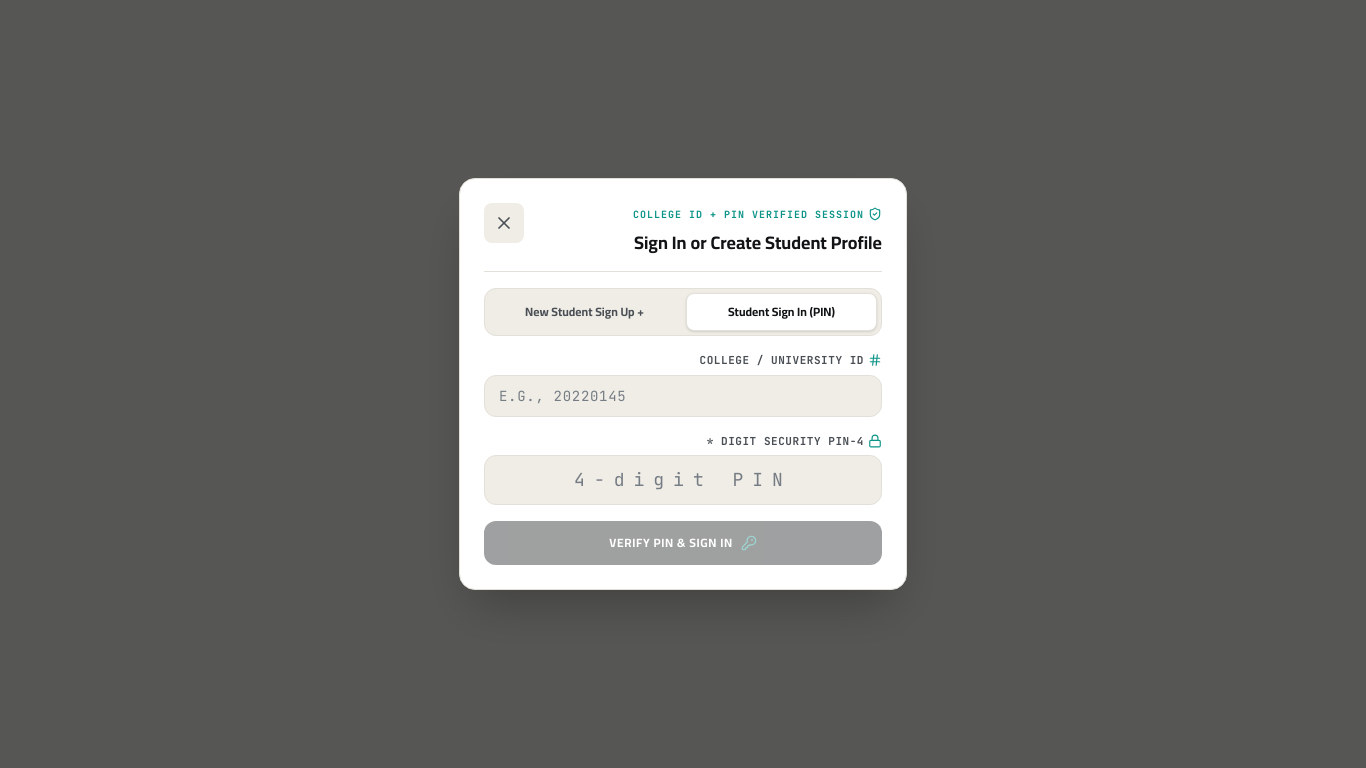
it: allows College ID sign-in with an empty public directory and recovers from network errors
Type "20220145" into the field labelled "College / University ID" at (683, 396), box [484,374,882,416]
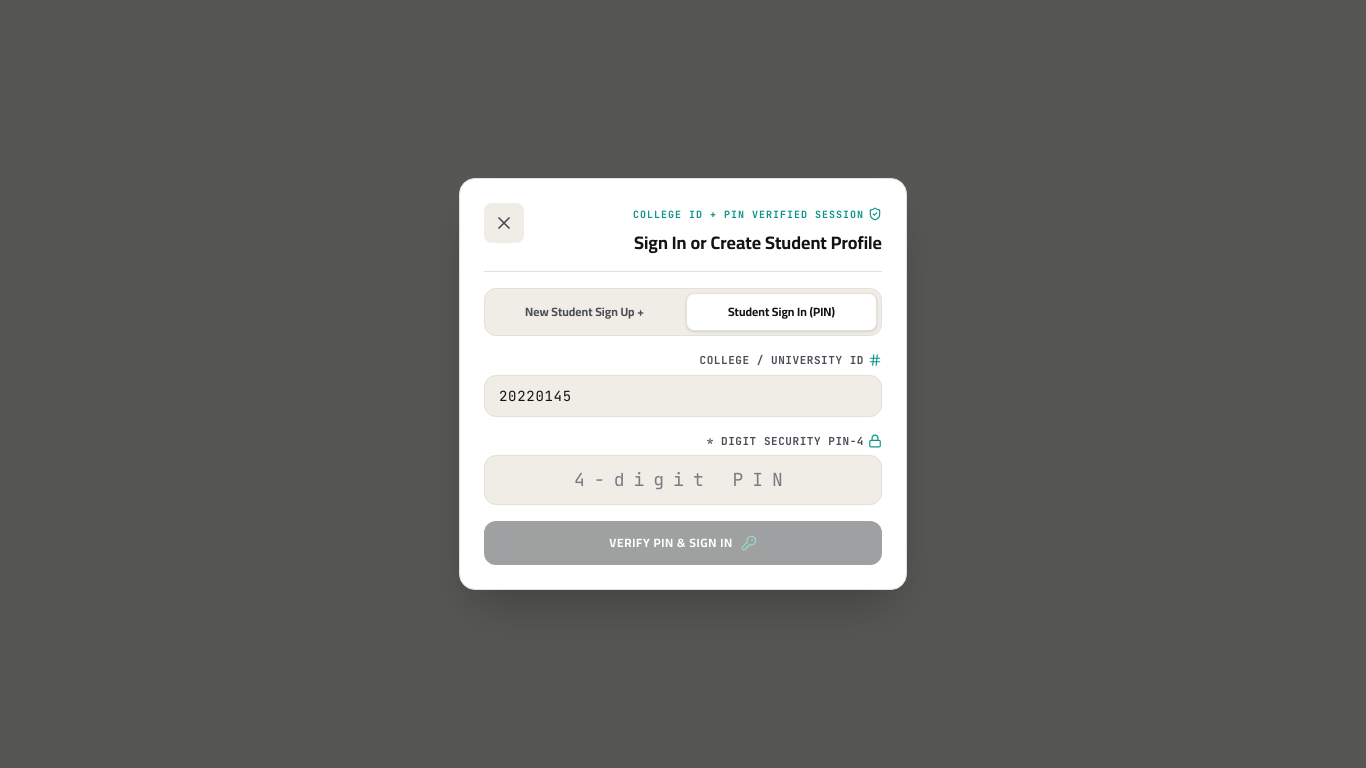
Type "4829" into the field labelled "4-Digit Security PIN *" at (683, 480), box [484,455,882,505]
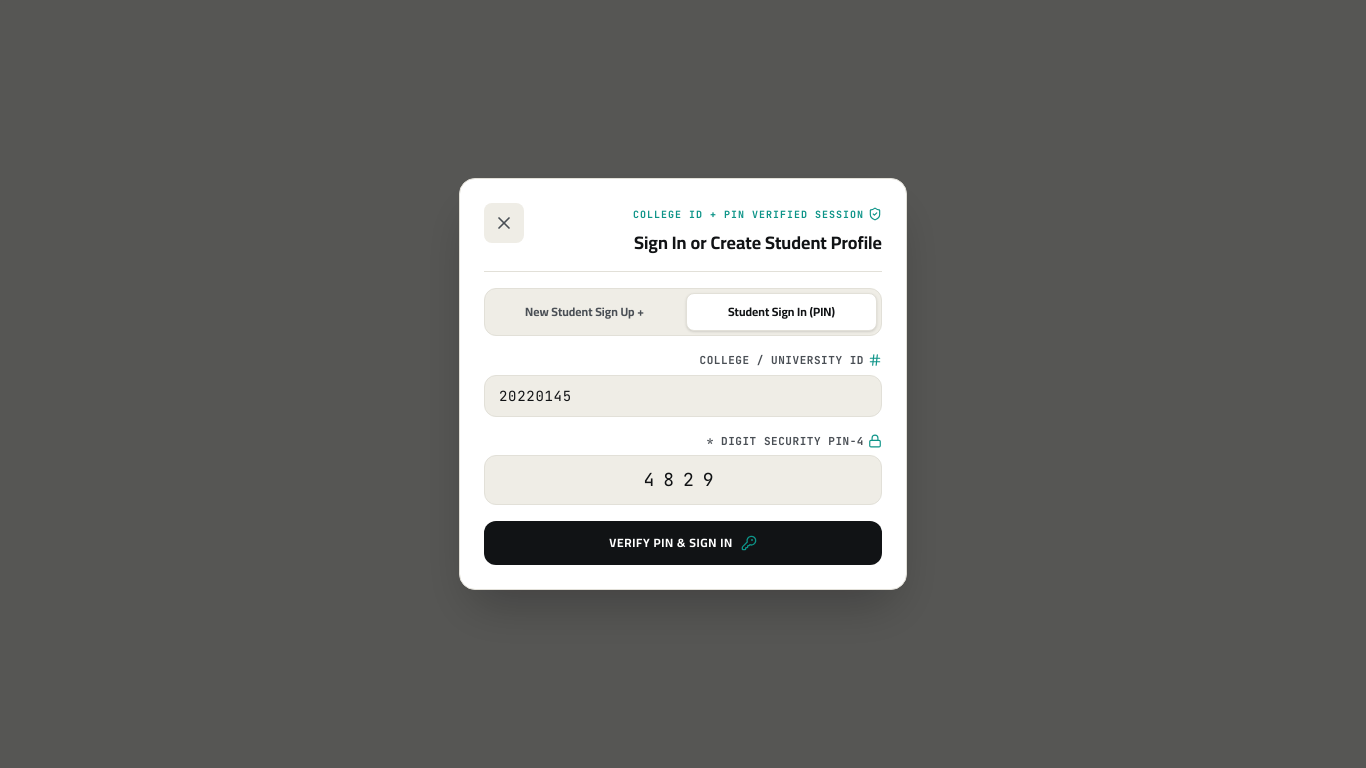
Click the button "Verify PIN & Sign In" at (683, 543), box [484,521,882,565]
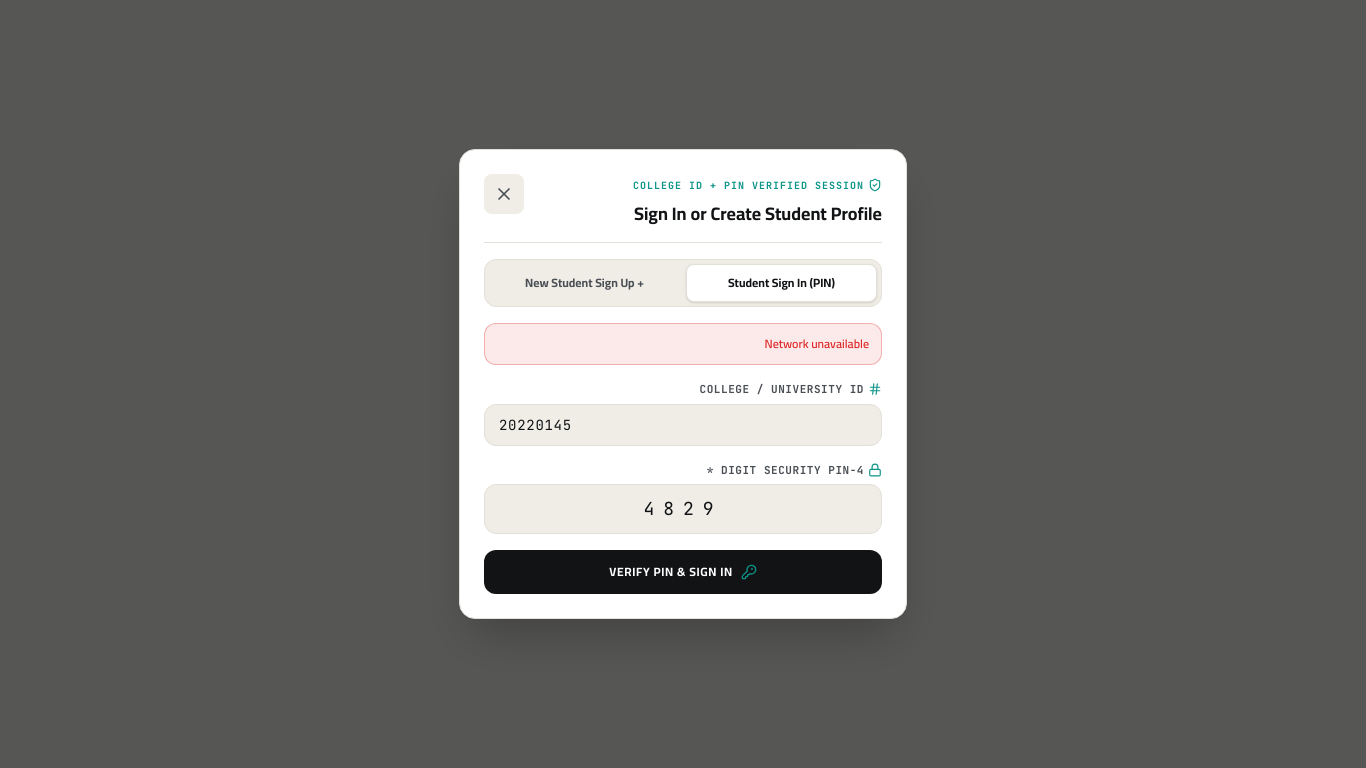
Now the button "Verify PIN & Sign In" is enabled, box [484,550,882,594]
Now the message reads "Network unavailable", box [765,332,869,355]
